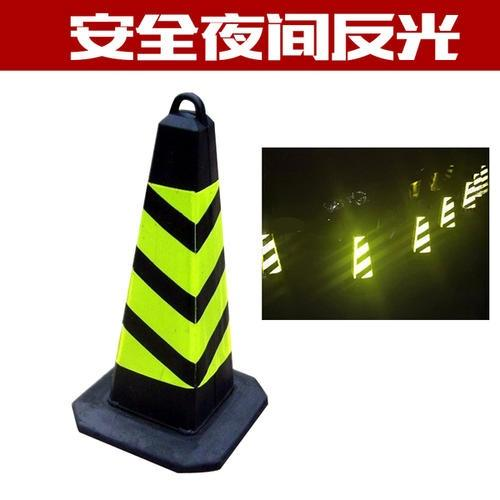cone_barrel: (85, 93, 258, 440)
